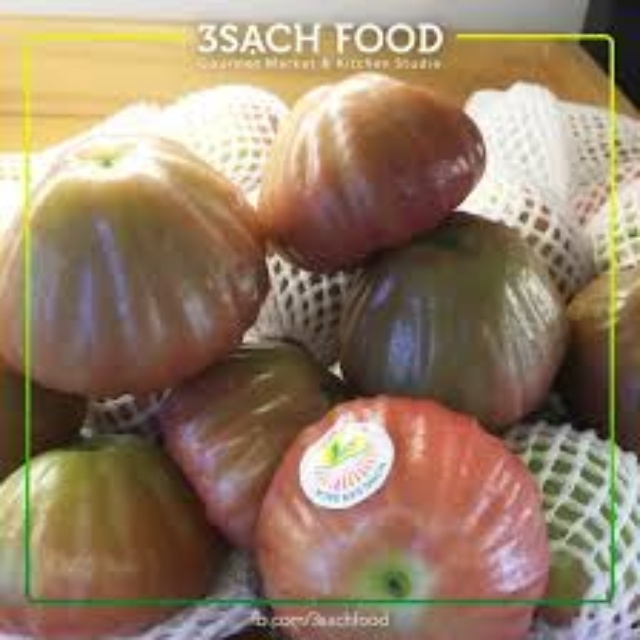xoai: (7, 123, 264, 406), (248, 66, 488, 272), (356, 226, 575, 428), (2, 429, 203, 637)
